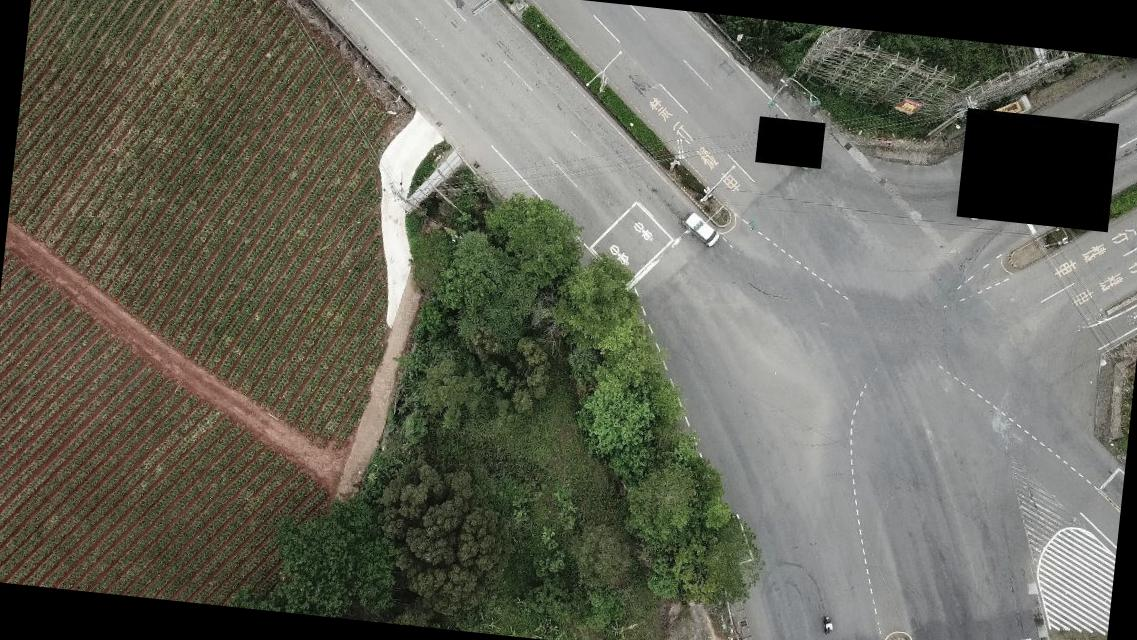vehicle: (680, 208, 722, 248), (982, 94, 1024, 130)
